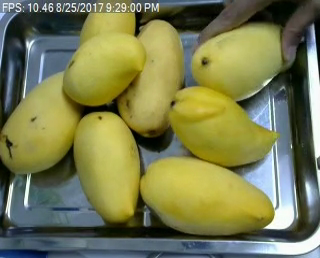Mango: (140, 157, 274, 236), (0, 70, 86, 175), (167, 85, 277, 167), (189, 22, 298, 101), (117, 19, 185, 135), (73, 111, 141, 223), (64, 31, 146, 105), (78, 1, 135, 54)
